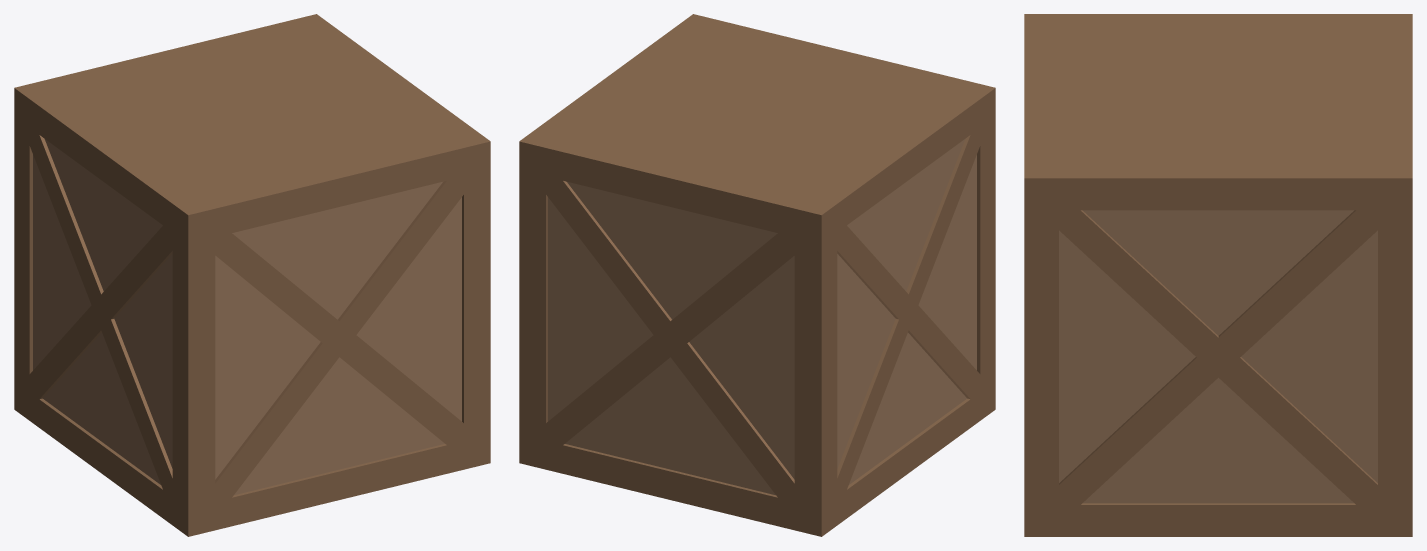
Rendered from case.dae.
3 views of the same model, side by side, from view 1: azimuth 30°, elevation 25°; view 2: azimuth 150°, elevation 25°; view 3: azimuth 270°, elevation 25° (orthographic). The views are drawn at different scales.
Visible parts, largest first — view 1: group_0 (×9); view 2: group_0 (×9); view 3: group_0 (×5).
Boxes of the visible parts, box(x1,y1,x2,y2) form: group_0 (×9): box(14, 14, 490, 536); group_0 (×9): box(519, 14, 995, 536); group_0 (×5): box(1024, 14, 1412, 536).
Bounding box in the file's own units: 38.74 × 38.62 × 39.37.
